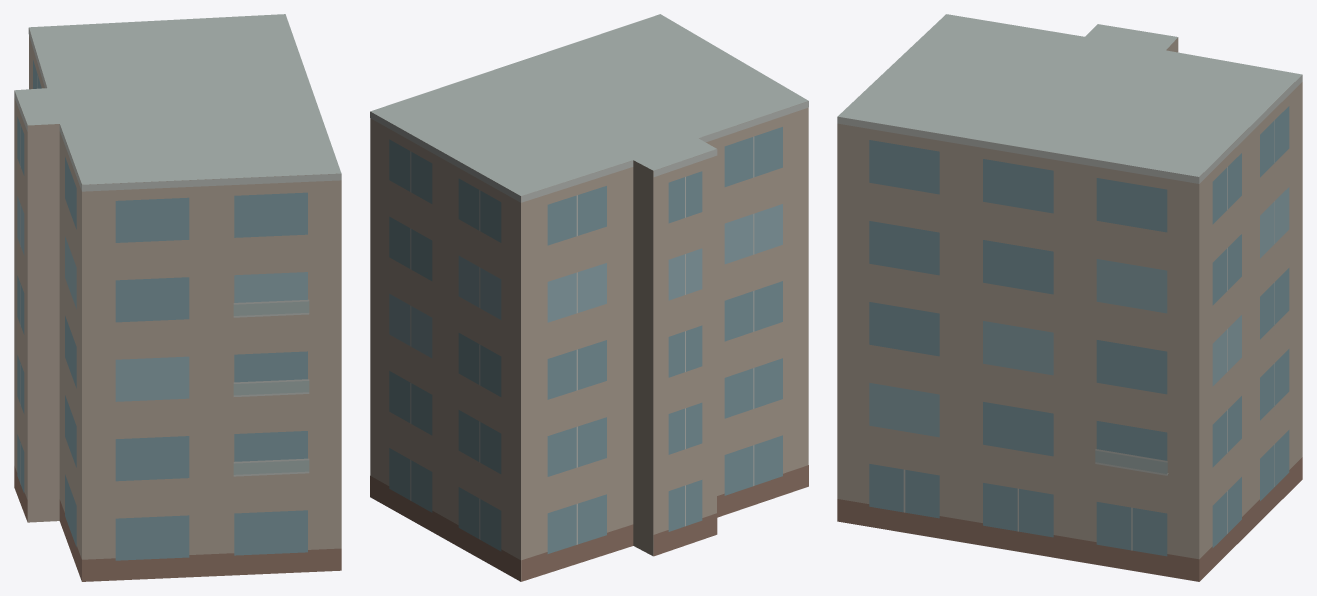
Rendered from survey-upis-32708246.glb.
3 views of the same model, side by side, from view 1: azimuth 30°, elevation 25°; view 2: azimuth 150°, elevation 25°; view 3: azimuth 270°, elevation 25° (orthographic). The views are drawn at different scales.
Visible parts, largest first — view 1: survey-upis-32708246.tmp; view 2: survey-upis-32708246.tmp; view 3: survey-upis-32708246.tmp.
Boxes of the visible parts, left/top/right/bottom form: survey-upis-32708246.tmp: left=14, top=14, right=341, bottom=581; survey-upis-32708246.tmp: left=370, top=14, right=808, bottom=581; survey-upis-32708246.tmp: left=837, top=14, right=1302, bottom=581.
Size of the model in its own units: 12.18 by 14.1 by 14.69.
